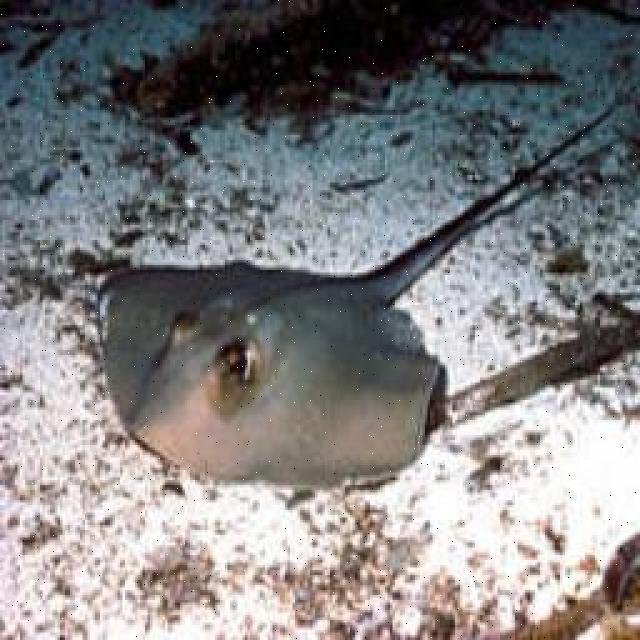fish: (102, 92, 638, 489)
